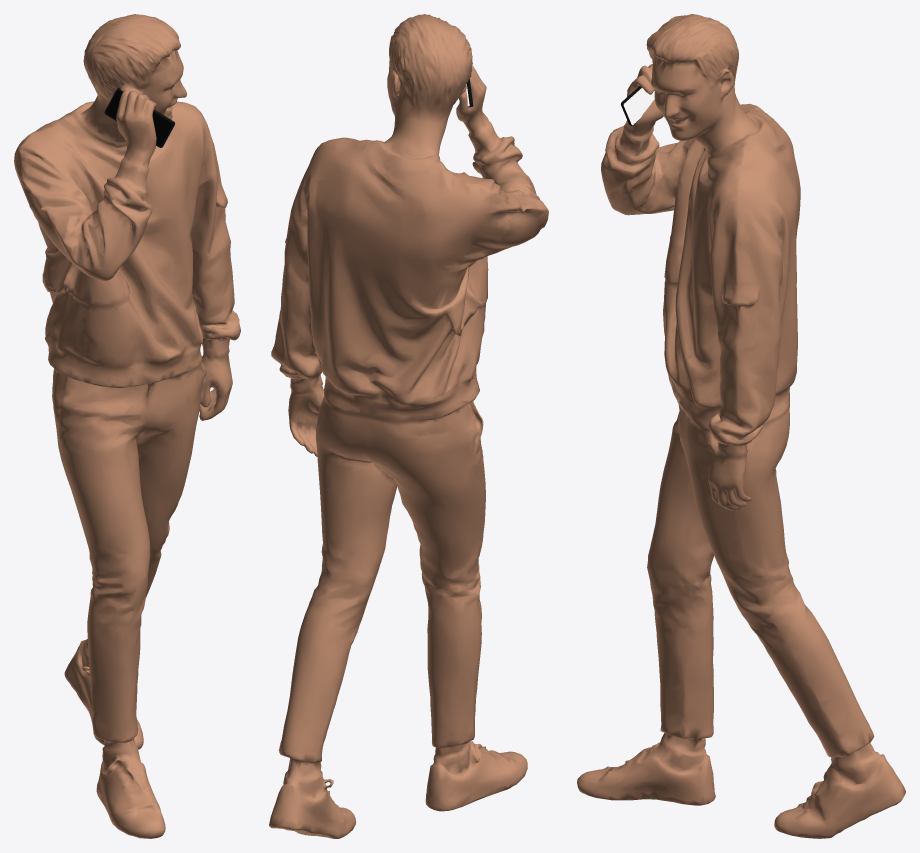
The model's file is man.gltf.
The picture shows the model from 3 angles, left to right: view 1: azimuth 30°, elevation 25°; view 2: azimuth 150°, elevation 25°; view 3: azimuth 270°, elevation 25°; orthographic projection. The views are drawn at different scales.
Visible parts, largest first — view 1: Ivan_1304_COR; view 2: Ivan_1304_COR; view 3: Ivan_1304_COR.
Boxes of the visible parts, left/top/right/bottom form: Ivan_1304_COR: left=14, top=14, right=240, bottom=838; Ivan_1304_COR: left=269, top=14, right=548, bottom=838; Ivan_1304_COR: left=577, top=14, right=905, bottom=838.
Bounding box in the file's own units: 0.5704 × 1.88 × 0.712.
